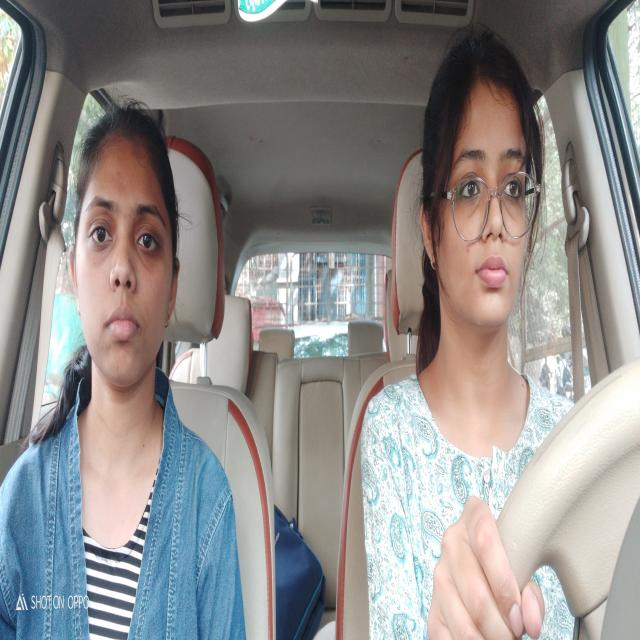person: (419, 28, 545, 363), (65, 106, 186, 387)
